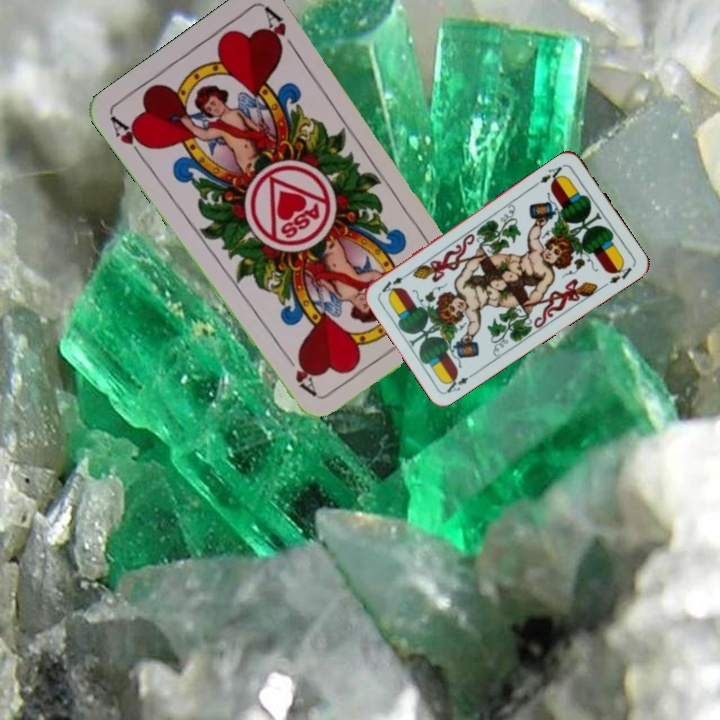EA: (441, 368, 479, 395), (531, 161, 567, 188)
HA: (107, 112, 152, 164)
